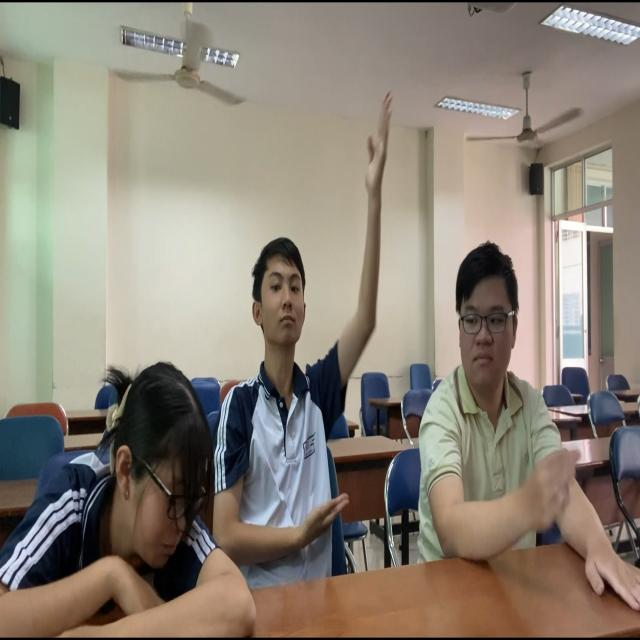raise_hand: (220, 87, 395, 582)
sleep: (1, 367, 253, 640)
